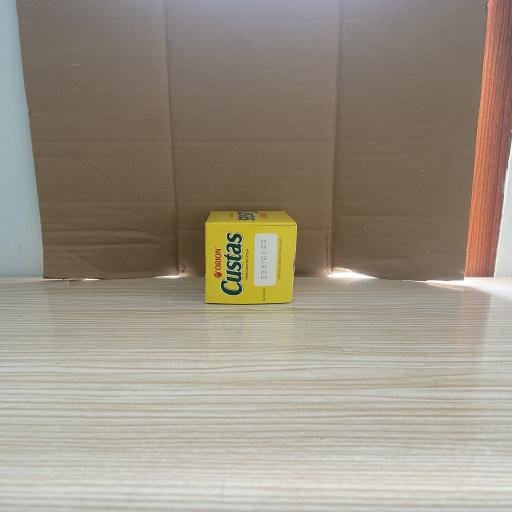custas: (204, 211, 298, 304)
